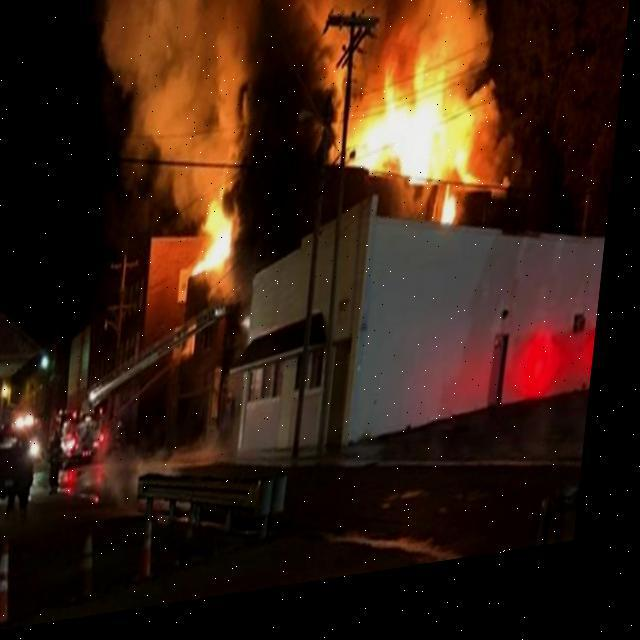Fire: (195, 22, 522, 342)
